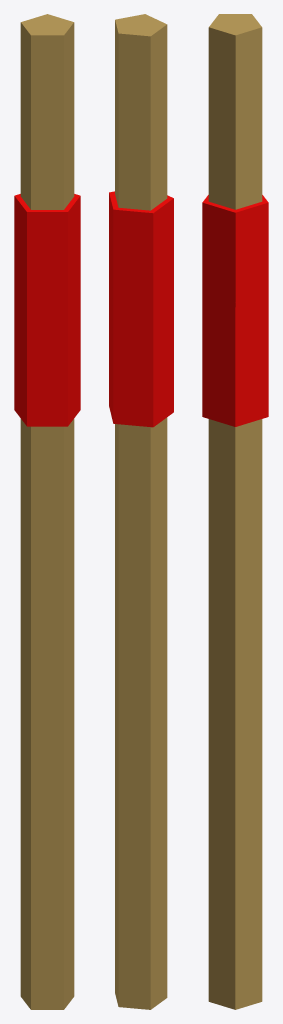
Rendered from CrickietStump2.fbx.
3 renders of one model, left to right at view 1: azimuth 90°, elevation 25°; view 2: azimuth 150°, elevation 25°; view 3: azimuth 270°, elevation 25°, orthographic.
Parts seen in each view (by area): view 1: CrickietStump2; view 2: CrickietStump2; view 3: CrickietStump2.
Part boxes in pixels (x1,y1,x2,y2): CrickietStump2: (14, 14, 80, 1009); CrickietStump2: (109, 14, 173, 1009); CrickietStump2: (202, 14, 268, 1009).
Size of the model in its own units: 3.37 by 57.51 by 3.54.
